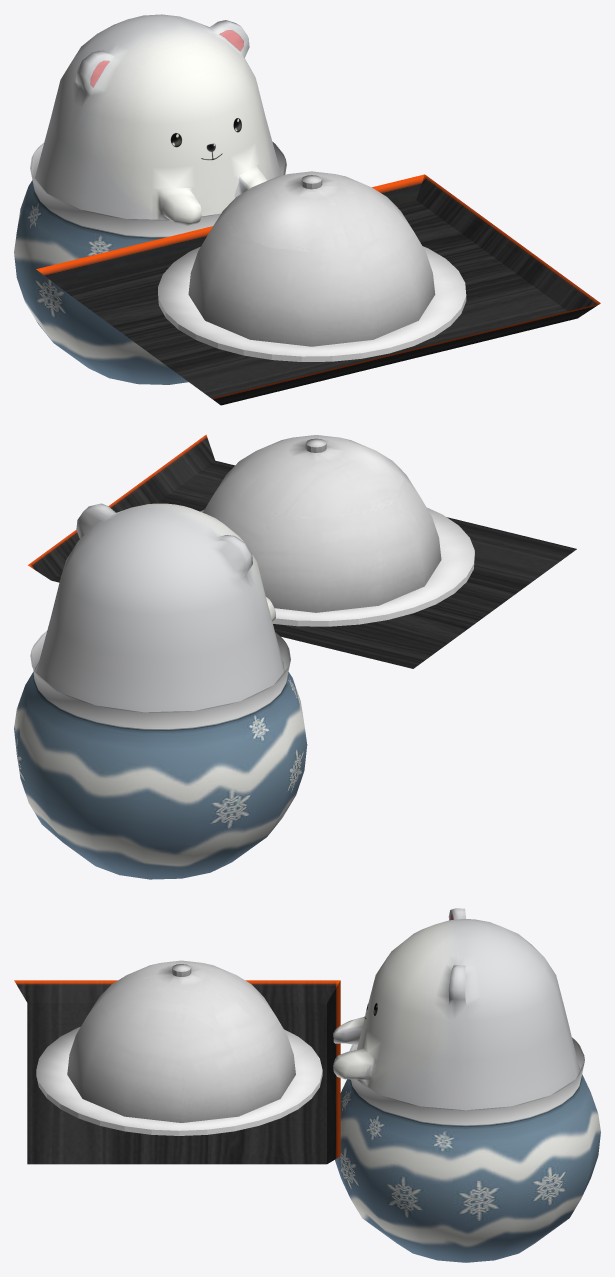
The model's file is daifukureload.glb.
3 renders of one model, top to bottom at view 1: azimuth 30°, elevation 25°; view 2: azimuth 150°, elevation 25°; view 3: azimuth 270°, elevation 25°, orthographic. The views are drawn at different scales.
Parts seen in each view (by area): view 1: daifuku, cover, Plane, plate; view 2: daifuku, cover, Plane, plate; view 3: daifuku, cover, Plane, plate.
Boxes of the visible parts, <box> form: daifuku: <box>14,14,286,384</box>; cover: <box>188,171,435,346</box>; Plane: <box>36,174,600,405</box>; plate: <box>158,246,466,361</box>; daifuku: <box>14,503,307,879</box>; cover: <box>203,435,441,612</box>; Plane: <box>28,434,576,668</box>; plate: <box>200,507,474,626</box>; daifuku: <box>333,908,600,1262</box>; cover: <box>67,960,295,1122</box>; Plane: <box>14,980,340,1164</box>; plate: <box>36,1027,322,1135</box>.
Size of the model in its own units: 0.3946 by 0.3269 by 0.5566.
Materials: 6 (6 with a texture image).
